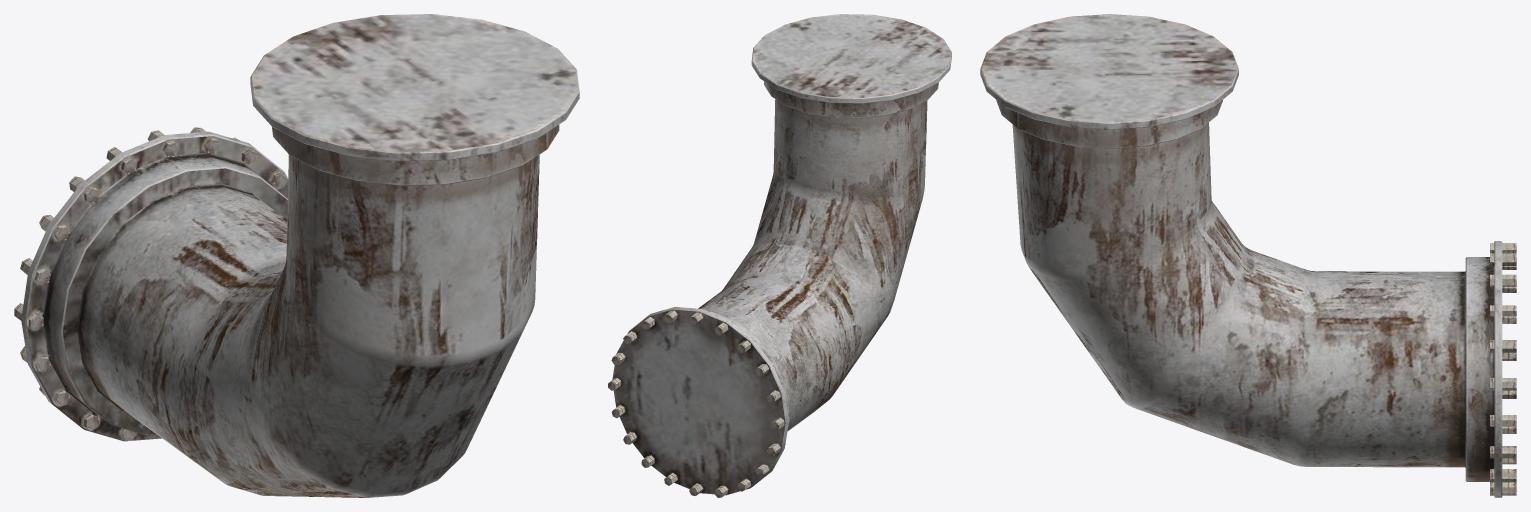
File: SM_Pipe_Curved.glb
The picture shows the model from 3 angles, left to right: view 1: azimuth 30°, elevation 25°; view 2: azimuth 150°, elevation 25°; view 3: azimuth 270°, elevation 25°; orthographic projection. The views are drawn at different scales.
Visible parts, largest first — view 1: SM_Pipe_Curved; view 2: SM_Pipe_Curved; view 3: SM_Pipe_Curved.
Boxes of the visible parts, box(x1,y1,x2,y2) form: SM_Pipe_Curved: box(14, 14, 579, 497); SM_Pipe_Curved: box(608, 14, 951, 497); SM_Pipe_Curved: box(980, 14, 1516, 497).
Bounding box in the file's own units: 0.348 × 0.6209 × 0.7212.
Materials: 1 (1 with a texture image).
